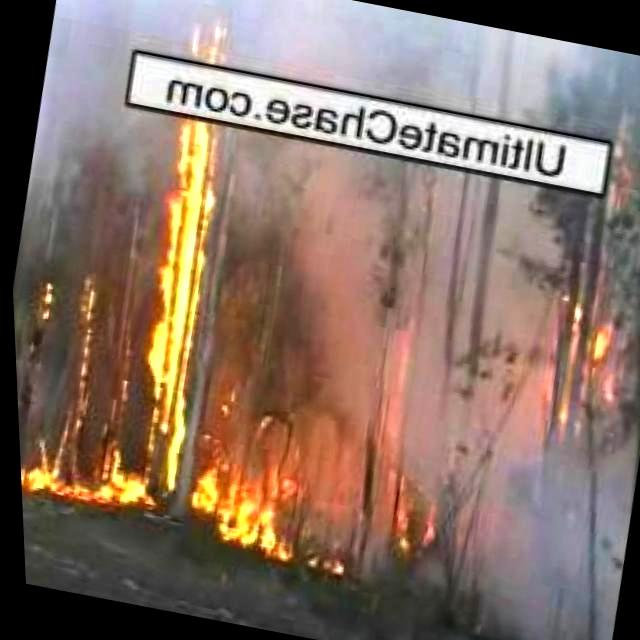fire: (85, 13, 258, 531), (534, 277, 638, 443), (179, 461, 309, 573), (382, 473, 450, 567), (16, 454, 84, 502)
